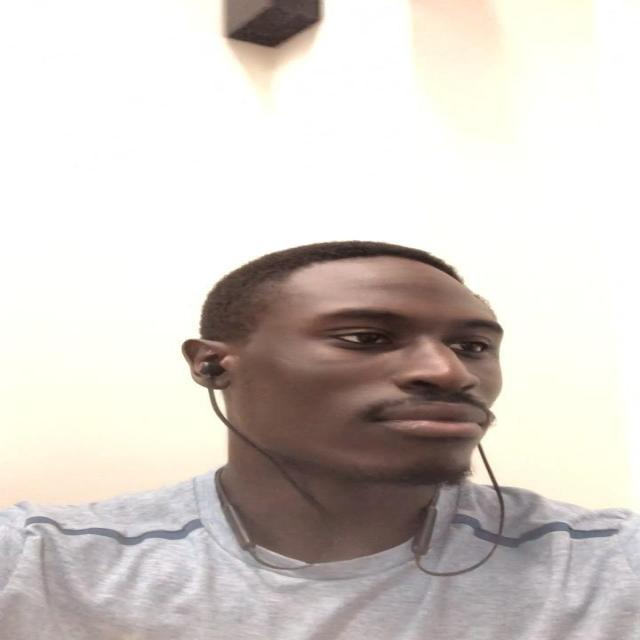face: (199, 258, 509, 489)
